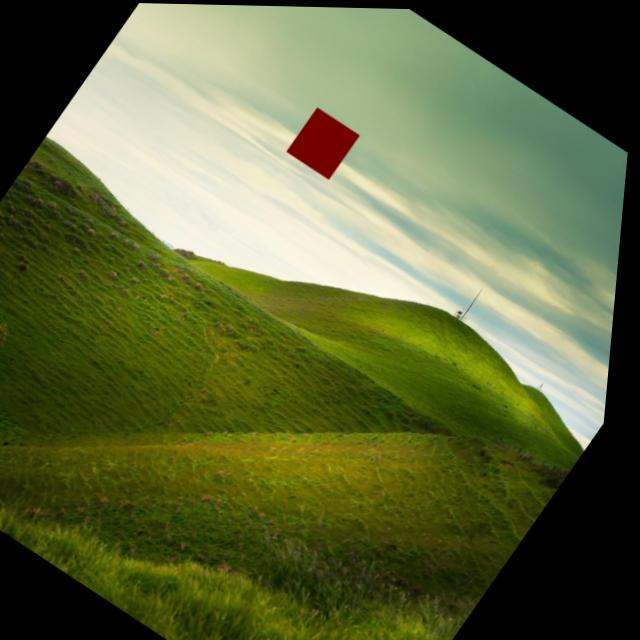RedSquare: (283, 95, 373, 184)
